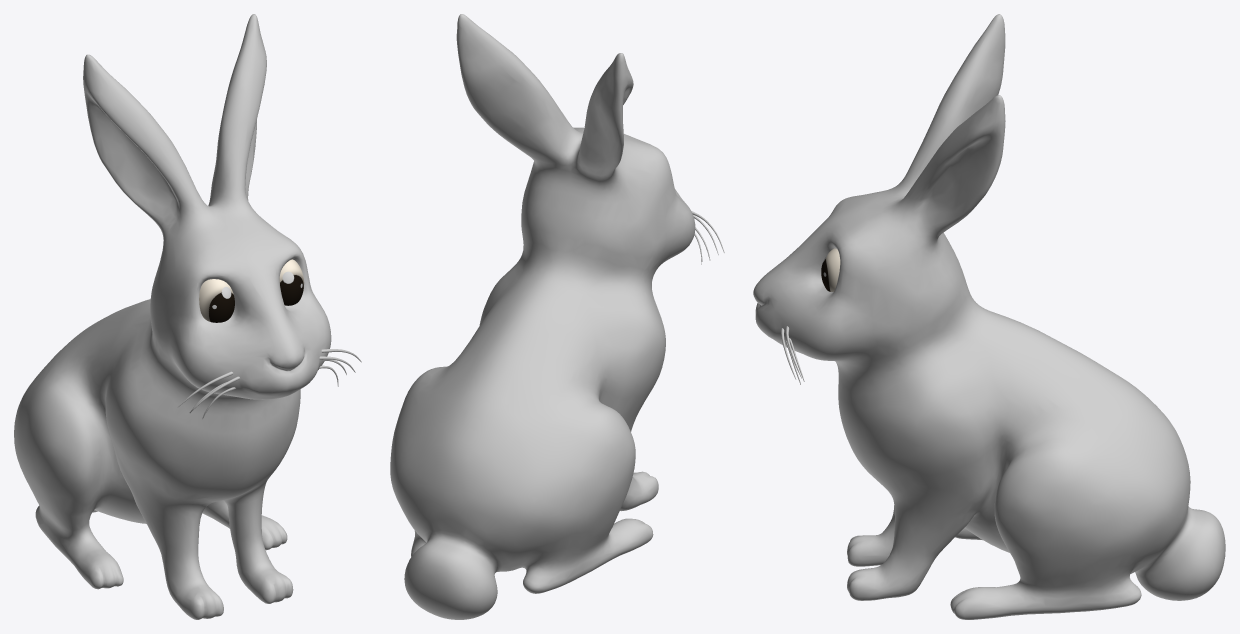
File: Lapin.fbx
3 renders of one model, left to right at view 1: azimuth 30°, elevation 25°; view 2: azimuth 150°, elevation 25°; view 3: azimuth 270°, elevation 25°, orthographic. The views are drawn at different scales.
Visible parts, largest first — view 1: lapin, eye_r, eye_l; view 2: lapin; view 3: lapin, eye_l.
Boxes of the visible parts, left/top/right/bottom form: lapin: left=14, top=14, right=331, bottom=619; eye_r: left=199, top=279, right=234, bottom=322; eye_l: left=279, top=259, right=304, bottom=305; lapin: left=390, top=14, right=695, bottom=619; lapin: left=753, top=14, right=1225, bottom=619; eye_l: left=821, top=248, right=840, bottom=291.
Bounding box in the file's own units: 34.93 × 79.97 × 63.48.
